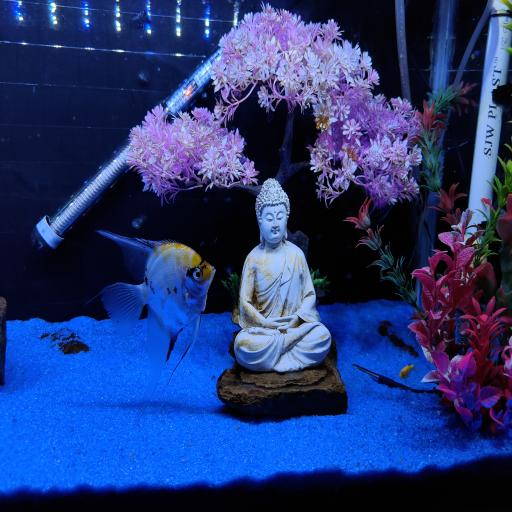Fish: (98, 231, 215, 408), (399, 364, 414, 378)
